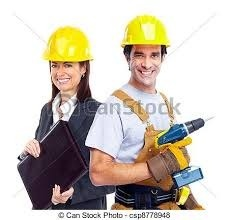helmet: (40, 26, 99, 67), (116, 13, 174, 50)
person with partial safety: (101, 9, 207, 208), (39, 24, 110, 209)
